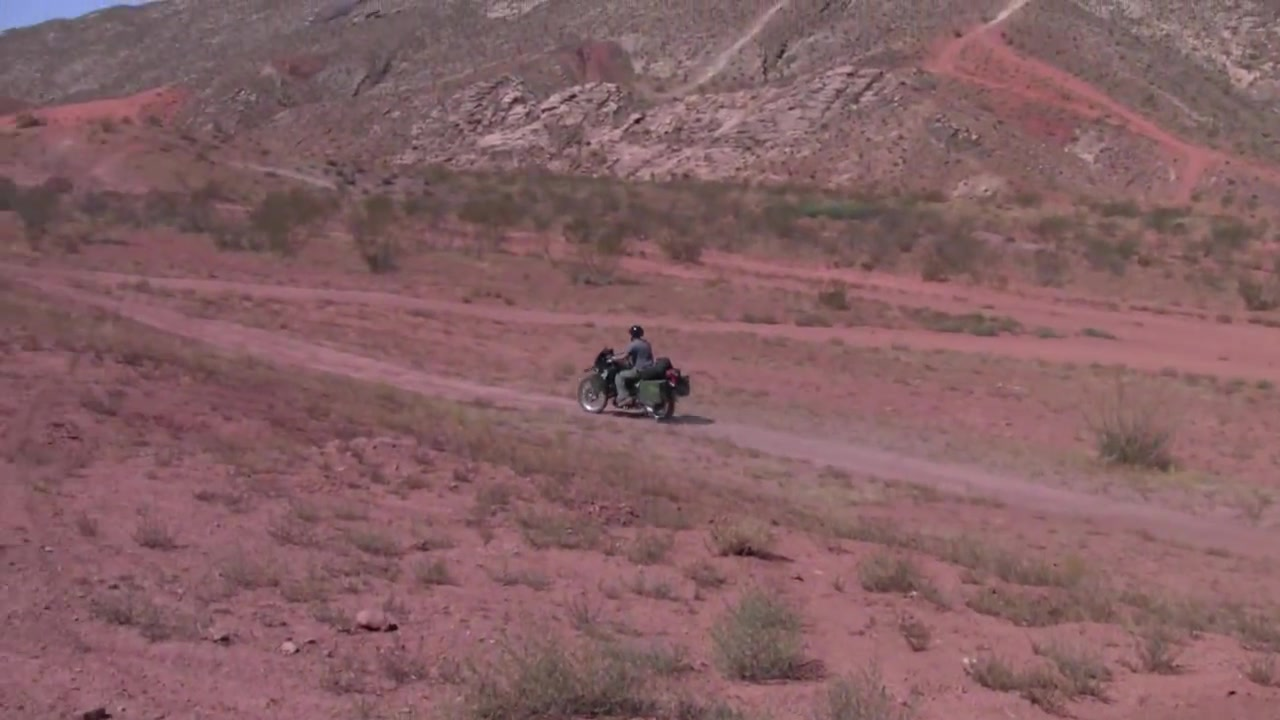motorbike: (575, 346, 695, 425)
